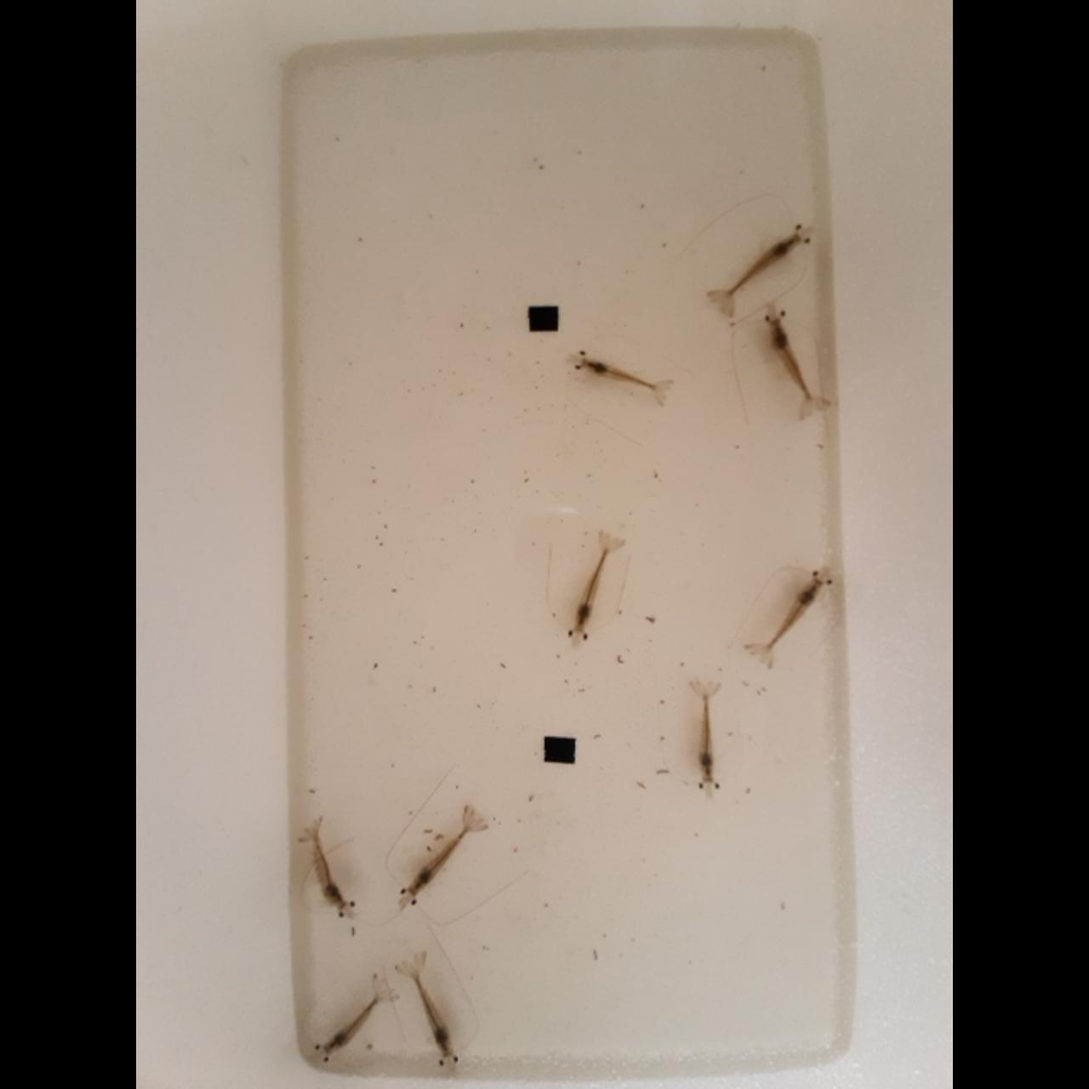box: (543, 737, 575, 762), (529, 308, 556, 332)
side_shrimp: (313, 832, 345, 907)
top_shrimp: (723, 240, 796, 301), (762, 584, 818, 657), (408, 825, 468, 893), (413, 975, 451, 1055), (769, 327, 808, 402), (575, 544, 609, 630), (327, 997, 379, 1052), (587, 360, 663, 390), (699, 694, 713, 779)
